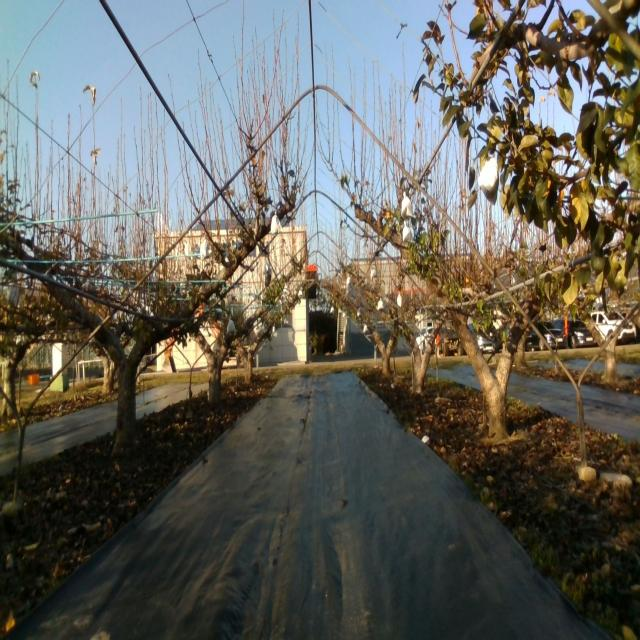pearbags: (478, 155, 500, 206), (401, 192, 413, 220), (402, 218, 414, 244), (270, 212, 282, 236), (200, 239, 212, 261)
